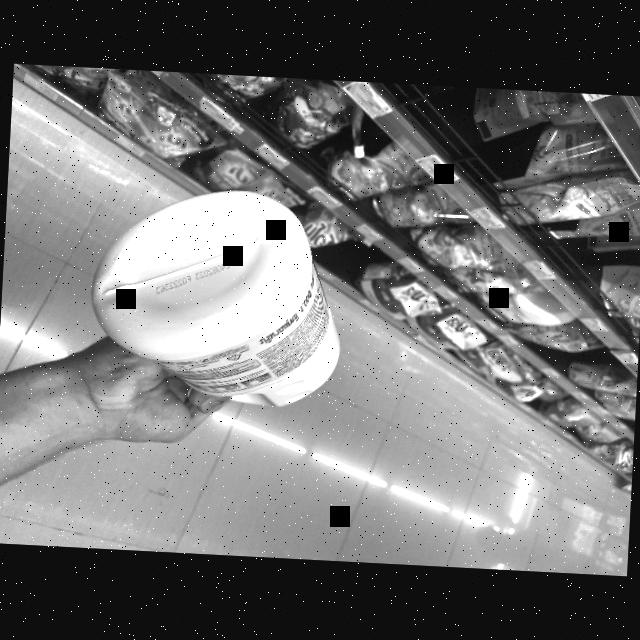chemical_plastic_bottle: (67, 172, 367, 428)
